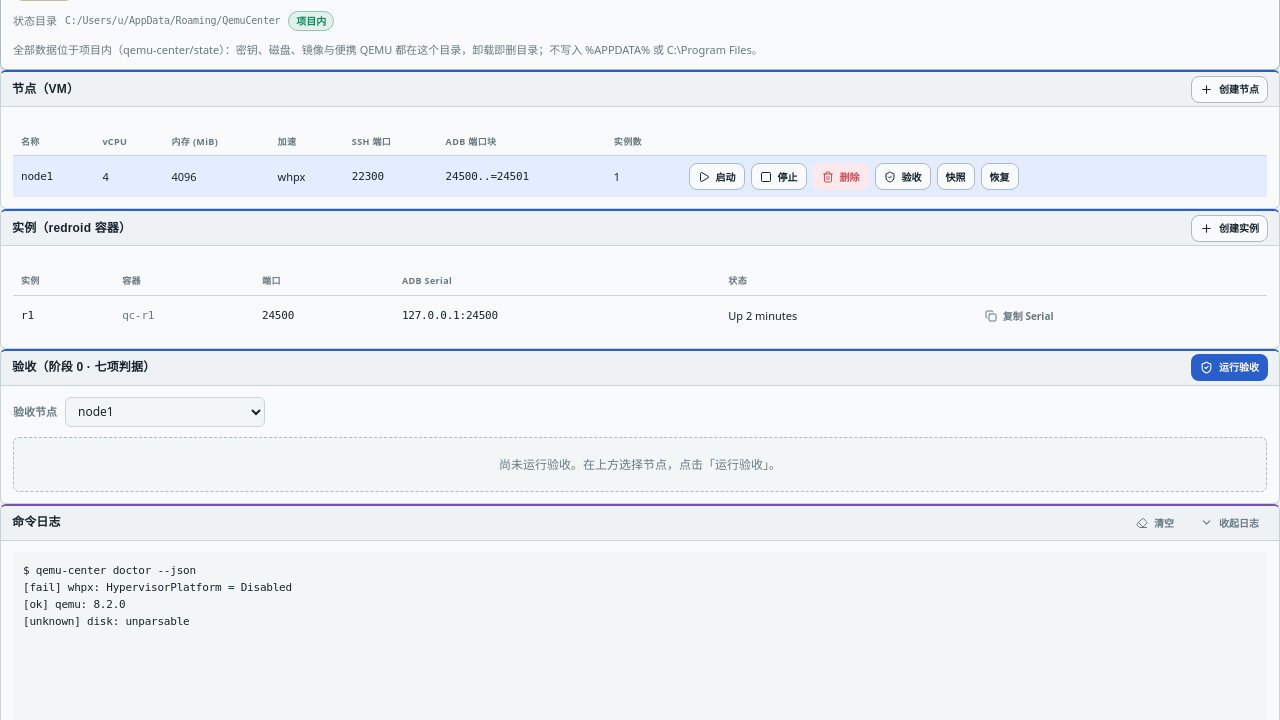
Test: QemuCenterPage › appends command lines to the collapsible log panel
(page scrolled)
Step 1. Click the button "验收" → (902, 177), box [874,164,930,190]
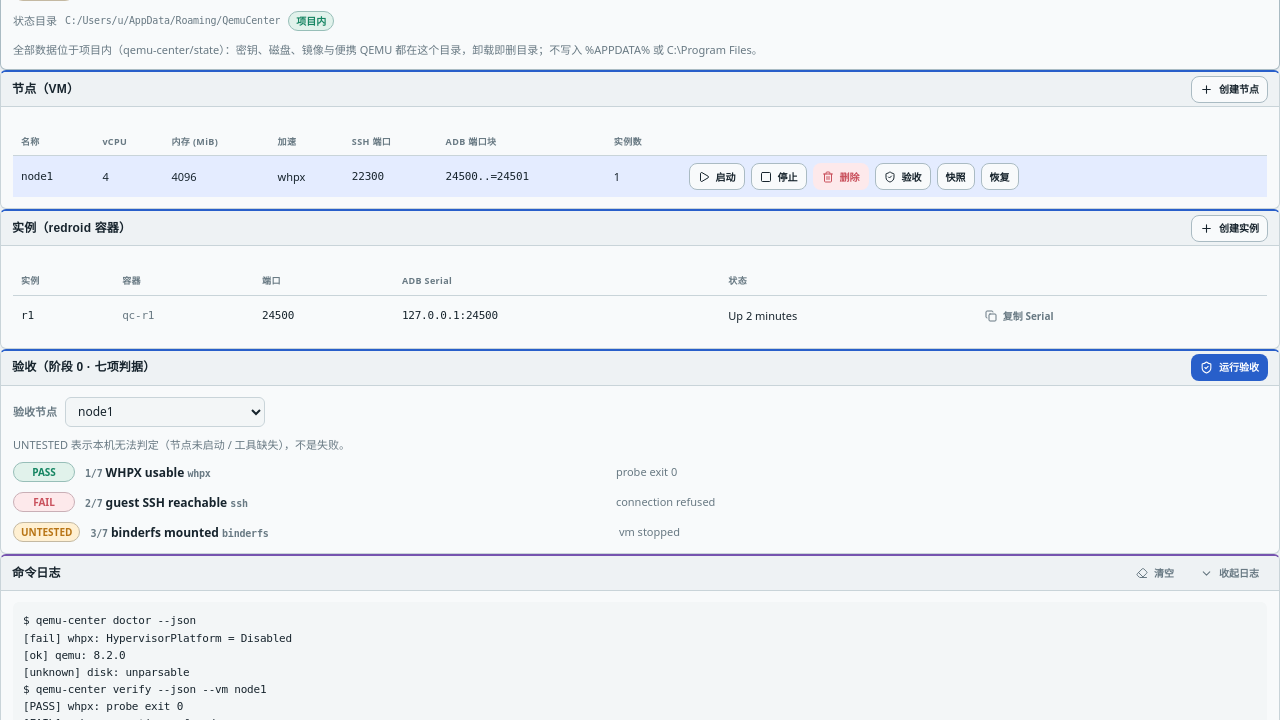
Check: the text "$ qemu-center verify" is shown, box [23,614,292,719]
Step 2. Click the button "收起日志" → (1230, 574), box [1191,560,1268,587]
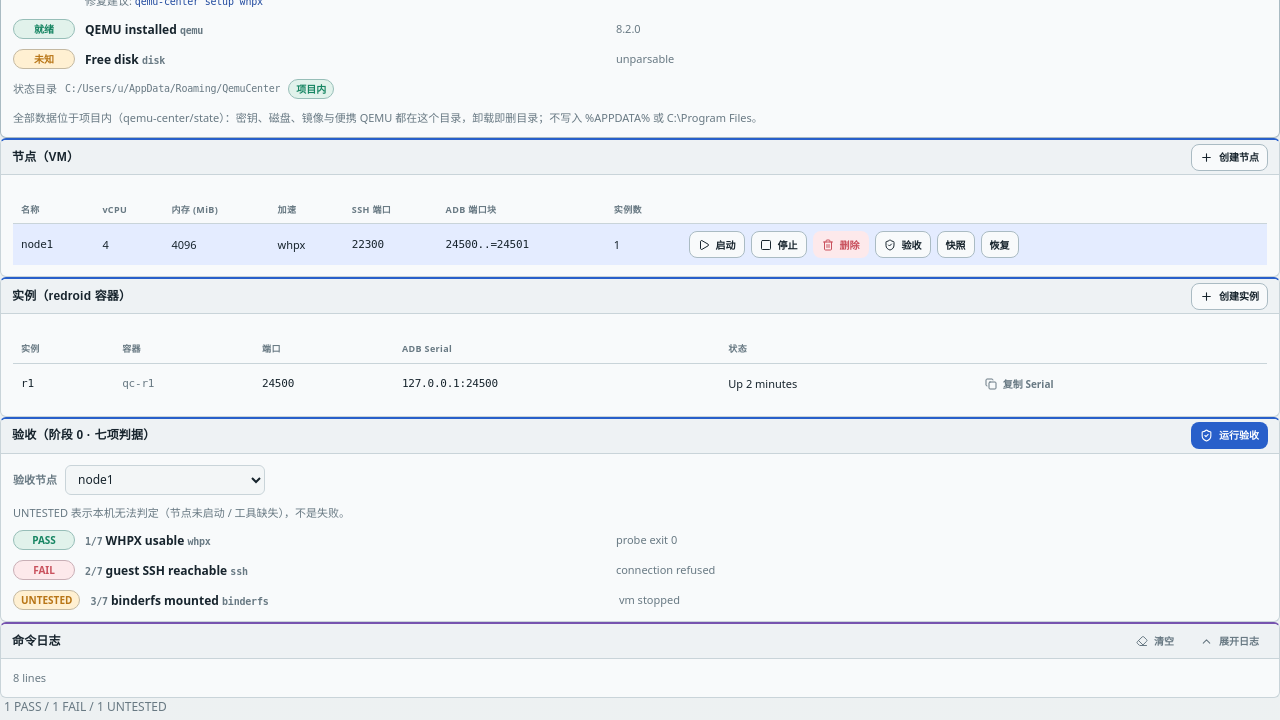
Check: the button "展开日志" is shown, box [1191,628,1268,655]
